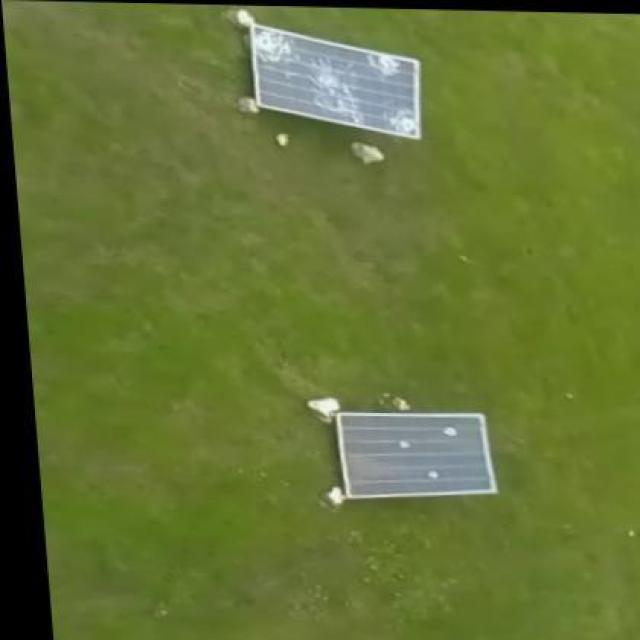cracked: (246, 17, 427, 142)
soiled: (334, 398, 502, 509)
